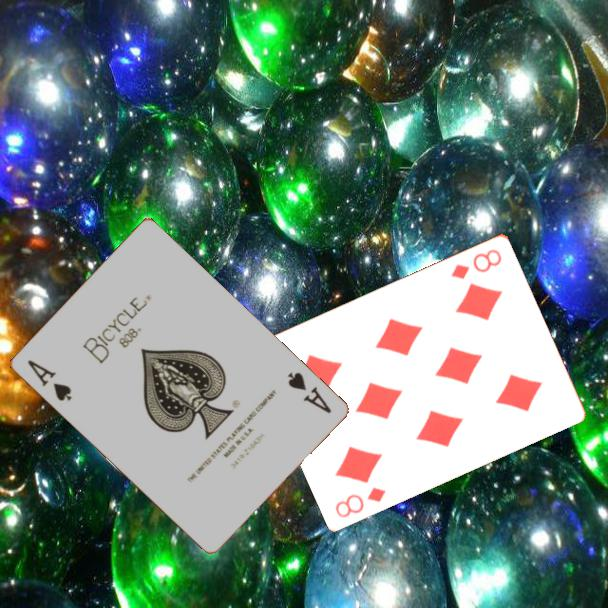d08: (448, 245, 505, 282), (332, 483, 389, 520)
s01: (23, 356, 75, 404), (283, 368, 334, 416)
